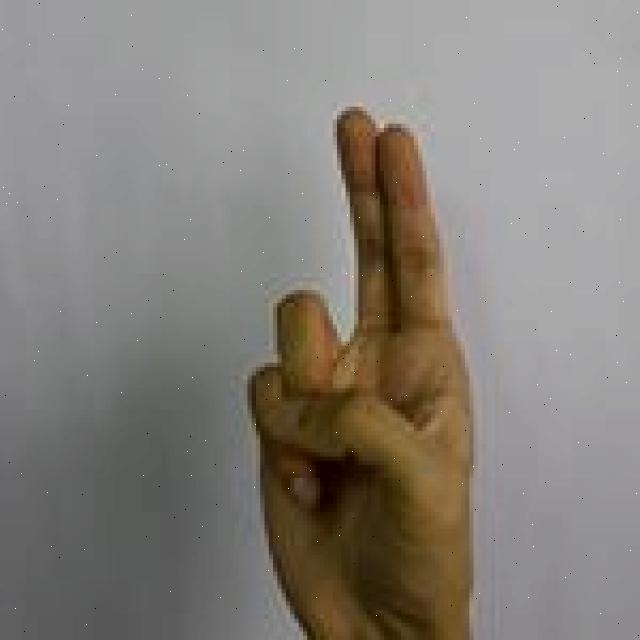U: (239, 101, 483, 640)
